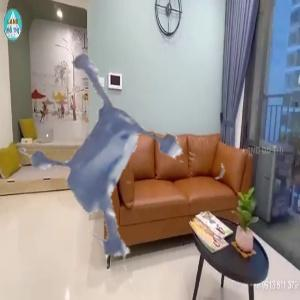drone: (7, 71, 233, 297)
